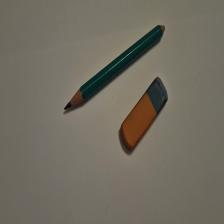eraser: (121, 77, 169, 152)
pencil: (65, 25, 166, 111)
